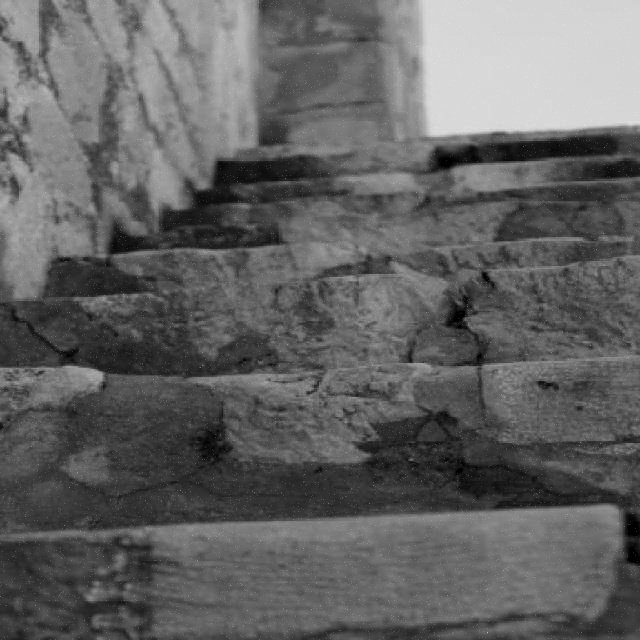stair: (0, 123, 640, 640)
